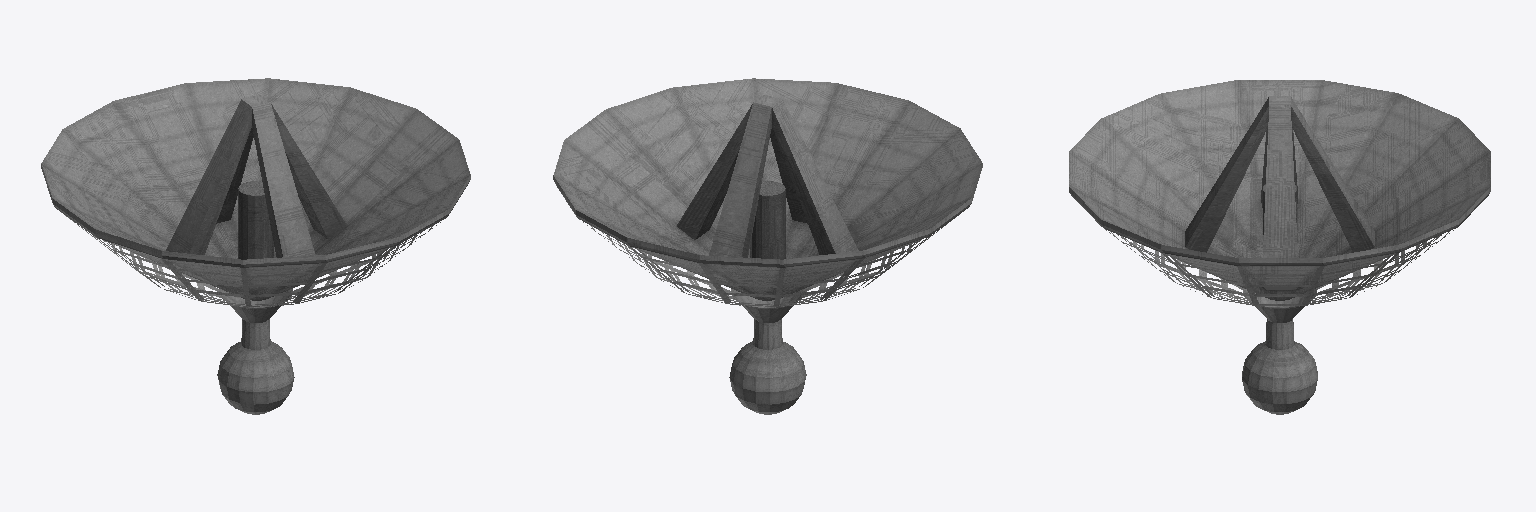
3 renders of one model, left to right at view 1: azimuth 30°, elevation 25°; view 2: azimuth 150°, elevation 25°; view 3: azimuth 270°, elevation 25°, orthographic.
Parts seen in each view (by area): view 1: Antenna1_Cylinder; view 2: Antenna1_Cylinder; view 3: Antenna1_Cylinder.
Boxes of the visible parts, box(x1,y1,x2,y2) form: Antenna1_Cylinder: box(41, 78, 470, 414); Antenna1_Cylinder: box(553, 78, 982, 414); Antenna1_Cylinder: box(1069, 80, 1490, 414).
Bounding box in the file's own units: 3.93 × 3.19 × 3.93.
Materials: 1 (1 with a texture image).